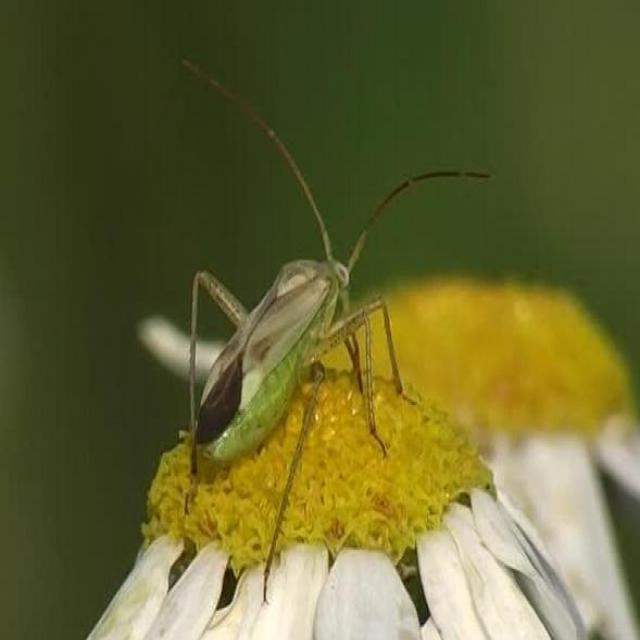Miridae-Adult-: (165, 55, 501, 539)
